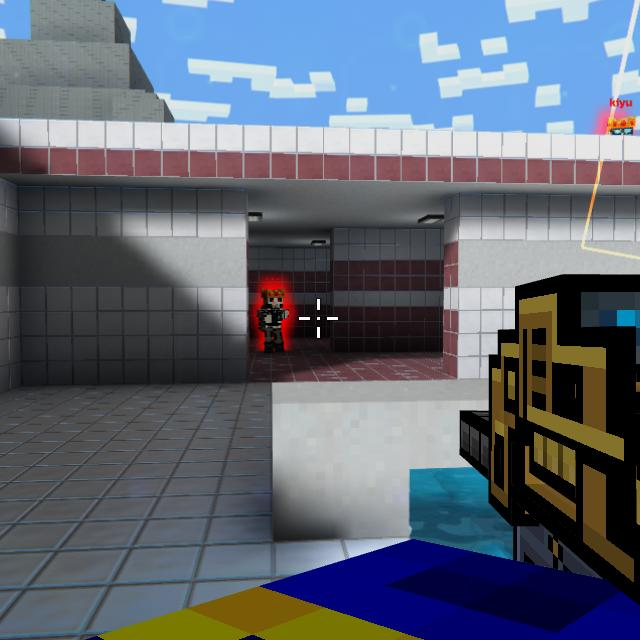Enemy: (257, 291, 290, 353), (607, 118, 638, 138)
